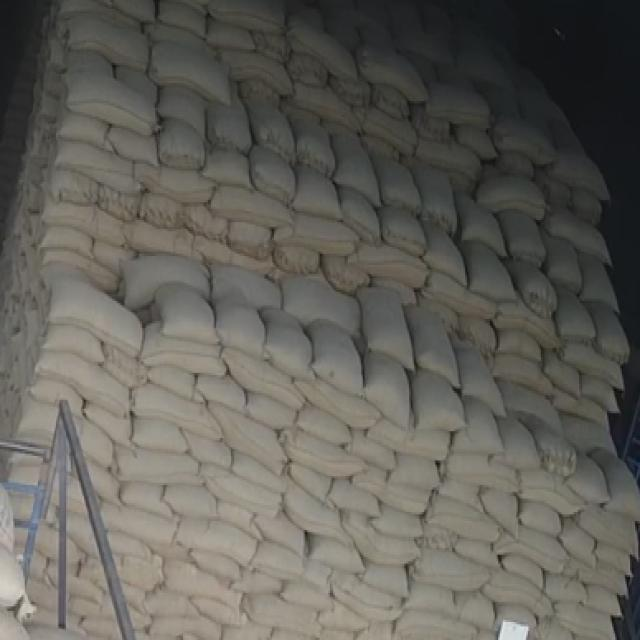Sack-2: (215, 79, 319, 161), (40, 278, 145, 358), (30, 341, 126, 423), (148, 537, 240, 616), (444, 164, 510, 268), (463, 154, 551, 230), (140, 38, 241, 102), (322, 113, 384, 216), (59, 8, 154, 73), (273, 271, 364, 331), (357, 281, 418, 369), (454, 233, 519, 314), (407, 290, 457, 391), (480, 404, 549, 477), (364, 131, 418, 223), (282, 102, 343, 183), (42, 191, 126, 248), (214, 404, 282, 474), (407, 358, 467, 436), (117, 246, 210, 296), (404, 153, 460, 236), (492, 512, 564, 573), (421, 76, 489, 138), (311, 324, 369, 396), (140, 157, 217, 211), (358, 348, 412, 424), (156, 281, 219, 346), (209, 287, 269, 354), (346, 518, 416, 575), (282, 482, 343, 547), (284, 428, 352, 485), (540, 149, 616, 200), (242, 144, 304, 206), (362, 462, 426, 522), (293, 160, 346, 232), (484, 554, 547, 614), (80, 389, 138, 454), (184, 585, 251, 640), (490, 116, 550, 177), (518, 409, 575, 473), (591, 450, 640, 521), (129, 218, 201, 266), (364, 42, 418, 104), (544, 594, 619, 638), (215, 183, 283, 231), (366, 243, 428, 294), (419, 547, 484, 595), (571, 549, 632, 600), (508, 257, 562, 313), (288, 209, 352, 256), (267, 313, 311, 380), (564, 444, 610, 508), (490, 566, 544, 620), (36, 217, 97, 264), (456, 394, 502, 456), (430, 273, 492, 319), (502, 499, 577, 537), (455, 335, 496, 402), (124, 420, 189, 462), (447, 526, 503, 574), (431, 498, 492, 542), (303, 28, 355, 79), (575, 574, 623, 629), (108, 121, 164, 168), (240, 96, 287, 150), (165, 121, 211, 176), (215, 268, 281, 306), (563, 341, 621, 384), (499, 300, 552, 347), (590, 304, 630, 366), (27, 366, 76, 416), (202, 143, 255, 188), (583, 532, 636, 576), (230, 453, 285, 495), (48, 318, 98, 363), (185, 431, 234, 474), (340, 190, 382, 240), (503, 541, 538, 596), (193, 549, 243, 587), (556, 289, 595, 337), (388, 208, 426, 254), (431, 225, 463, 278), (242, 569, 286, 607), (556, 520, 595, 562)
